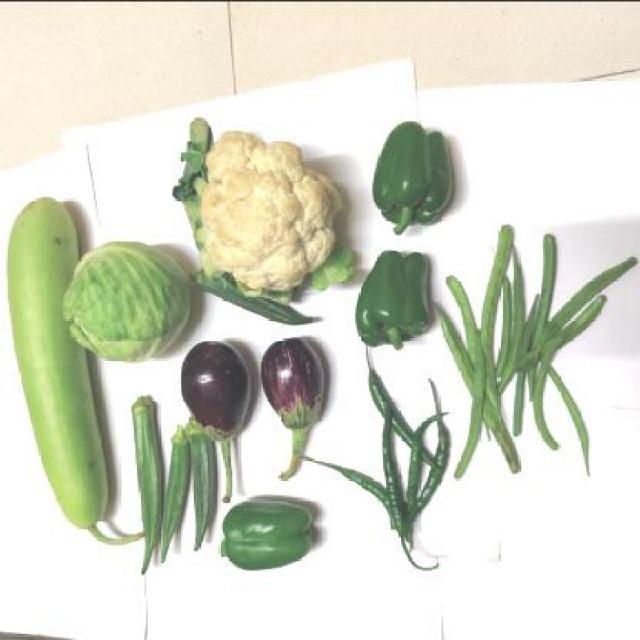Brinjal: (178, 338, 252, 492), (258, 335, 328, 483)
Calabash: (8, 194, 84, 536)
Capsicum: (183, 122, 354, 290), (64, 237, 184, 363), (383, 382, 446, 542), (371, 120, 451, 229), (357, 246, 434, 348), (218, 496, 317, 570)
Lady finger: (136, 390, 166, 572), (161, 424, 194, 548), (191, 424, 212, 546)
